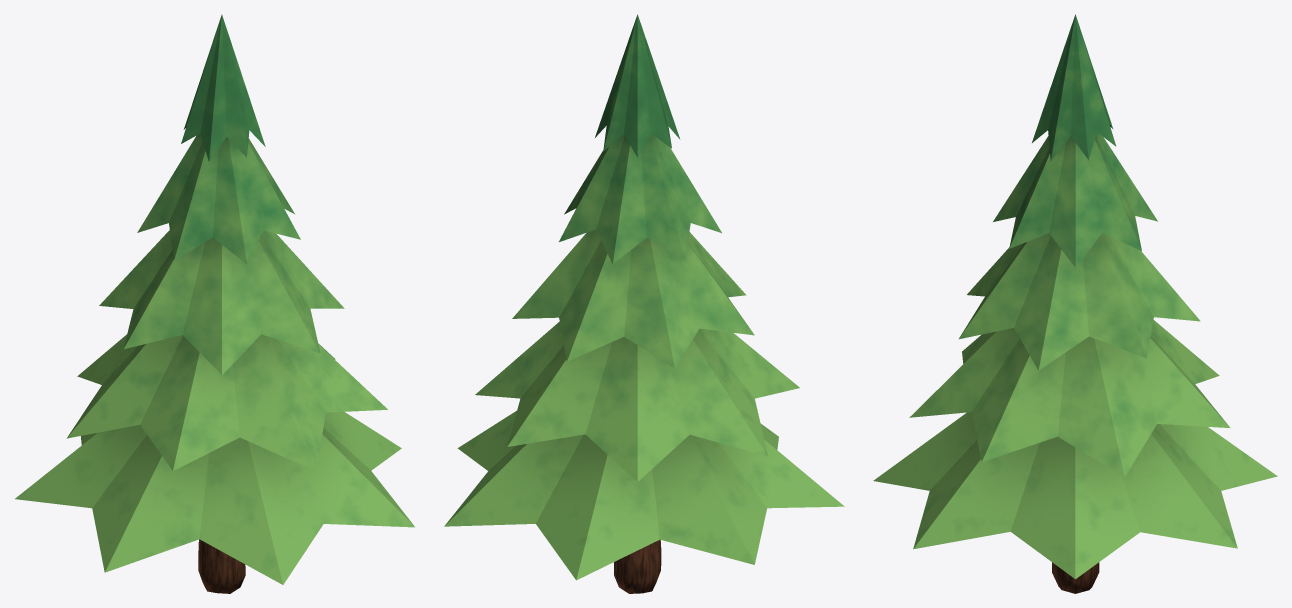
File: Env_Pine_2.glb
3 renders of one model, left to right at view 1: azimuth 30°, elevation 25°; view 2: azimuth 150°, elevation 25°; view 3: azimuth 270°, elevation 25°, orthographic.
Visible parts, largest first — view 1: Env_Pine_2.001; view 2: Env_Pine_2.001; view 3: Env_Pine_2.001.
Part boxes in pixels (x1,y1,x2,y2): Env_Pine_2.001: [15, 14, 414, 593]; Env_Pine_2.001: [444, 14, 844, 593]; Env_Pine_2.001: [873, 14, 1277, 593].
Size of the model in its own units: 8.66 by 14 by 8.89.
Materials: 1 (1 with a texture image).
